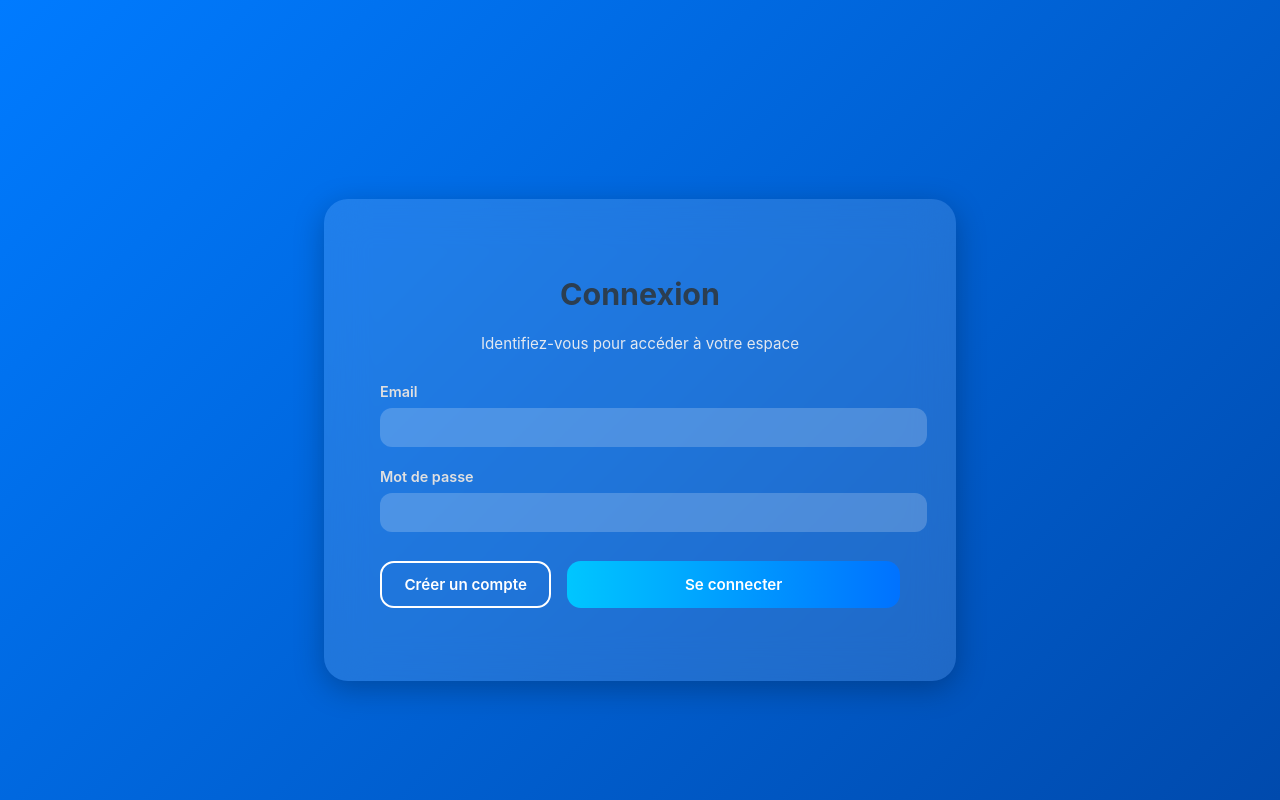
Test case: Login page › affiche un message d'erreur si login échoue
The width and height of the screenshot is (1280, 800).
Type "test@test.com" into the field labelled "Email" at (654, 427), box [380,408,927,447]
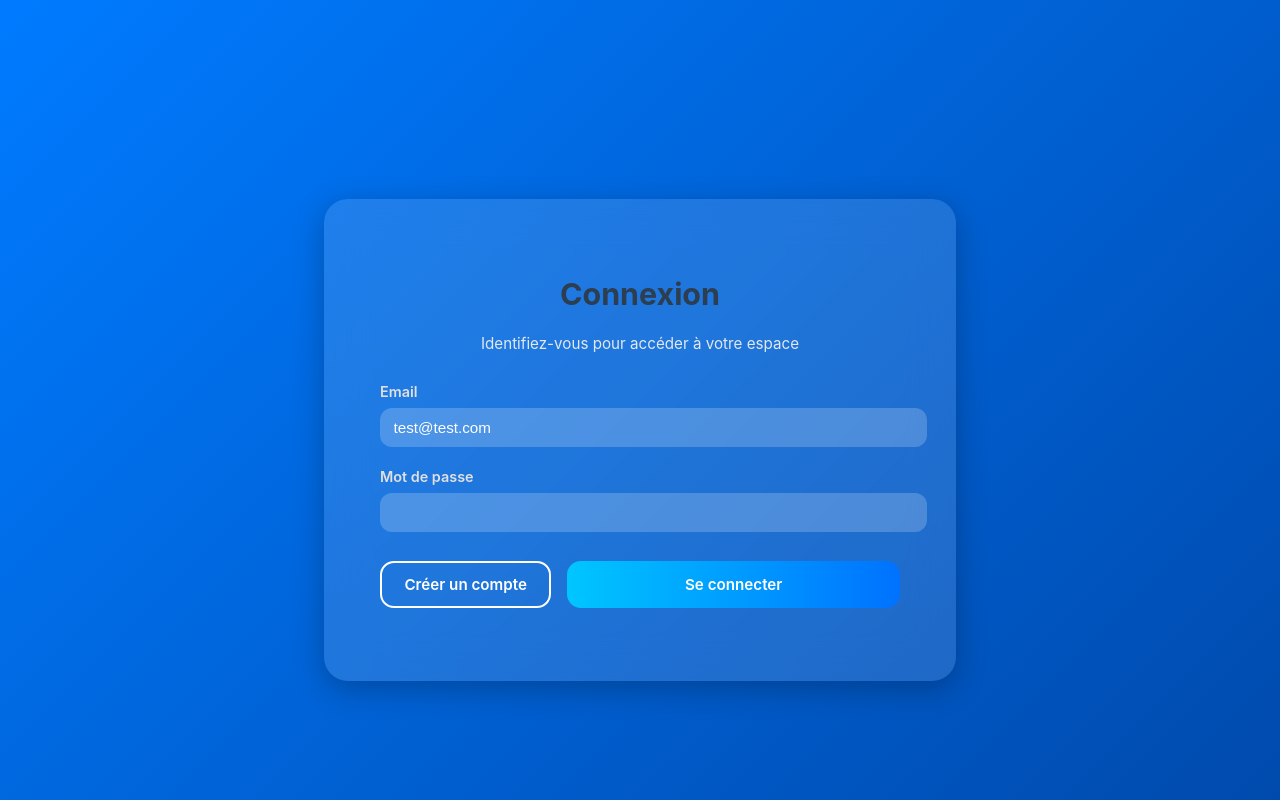
Type "wrong" into the password field labelled "Mot de passe" at (654, 512), box [380,492,927,532]
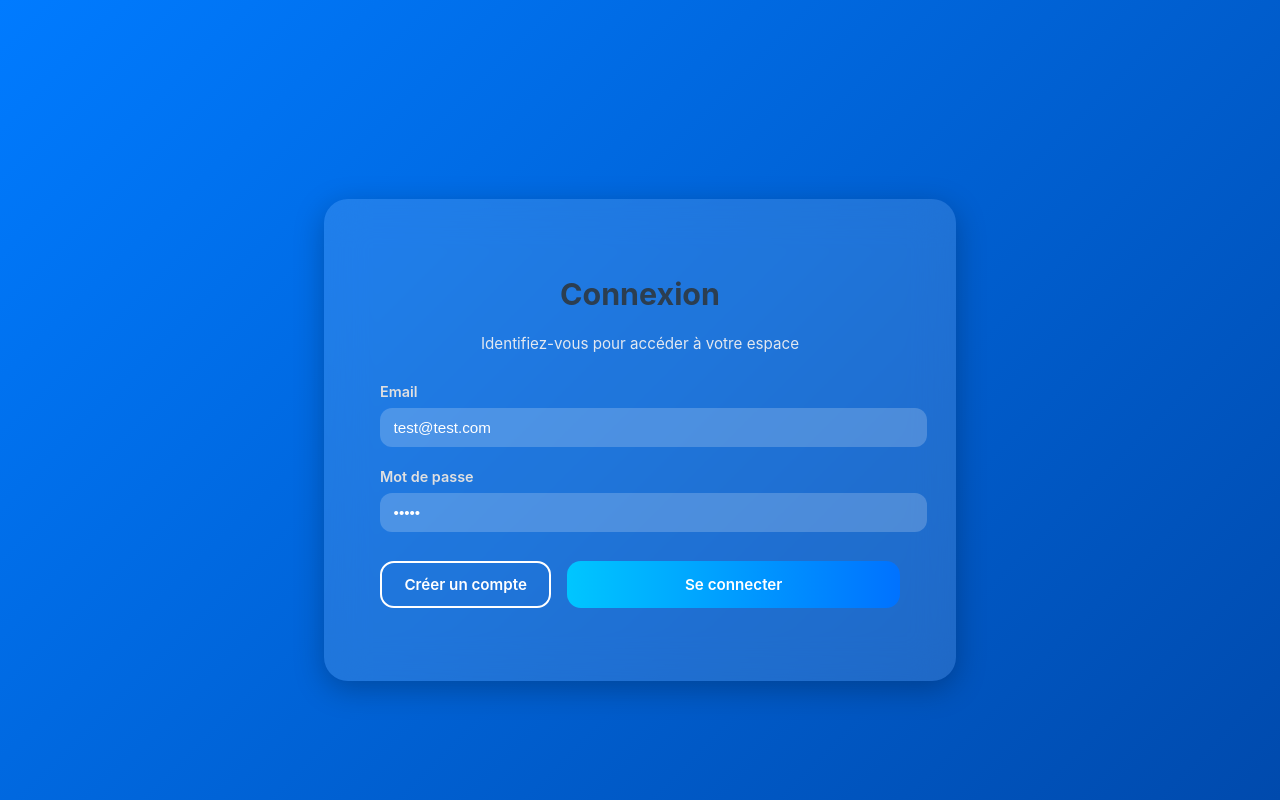
Click the button "Se connecter" at (734, 584), box [567,561,900,608]
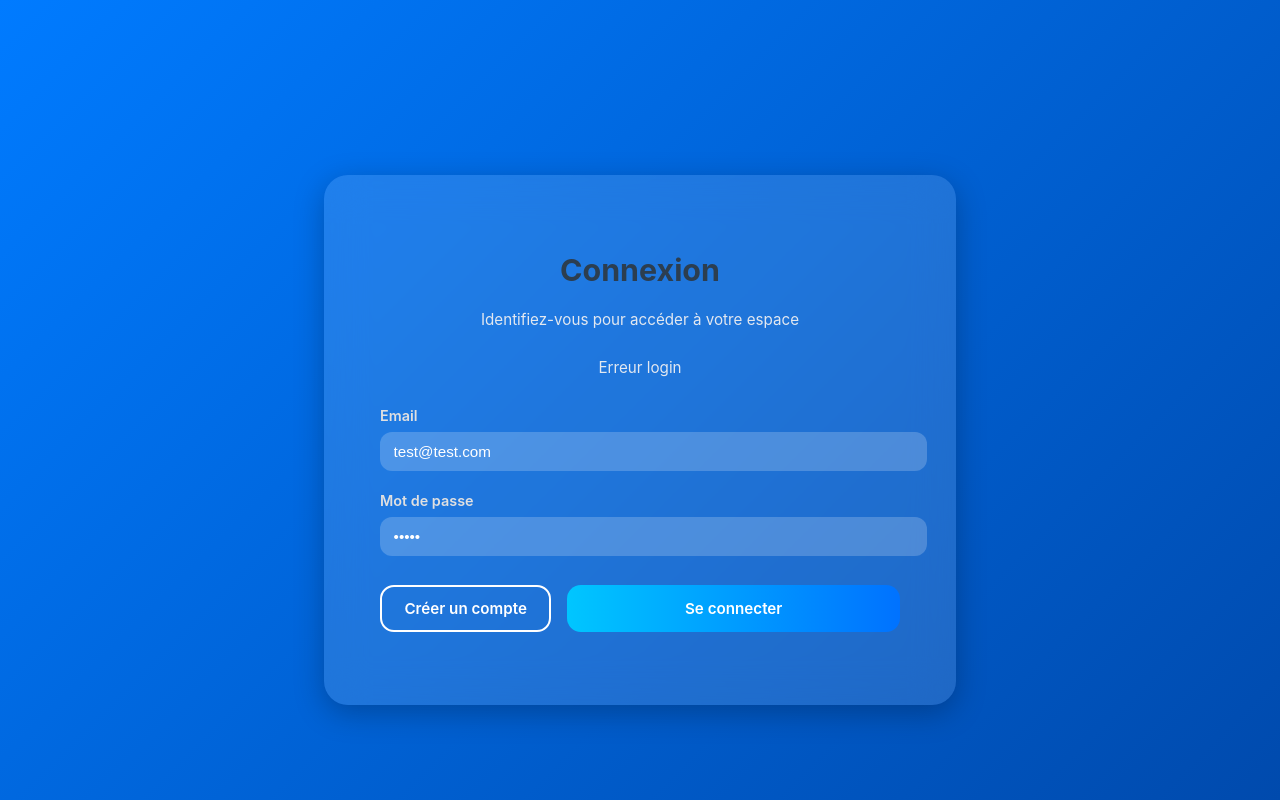
Expected: the text "Erreur login" is shown, [598,358,682,377]
